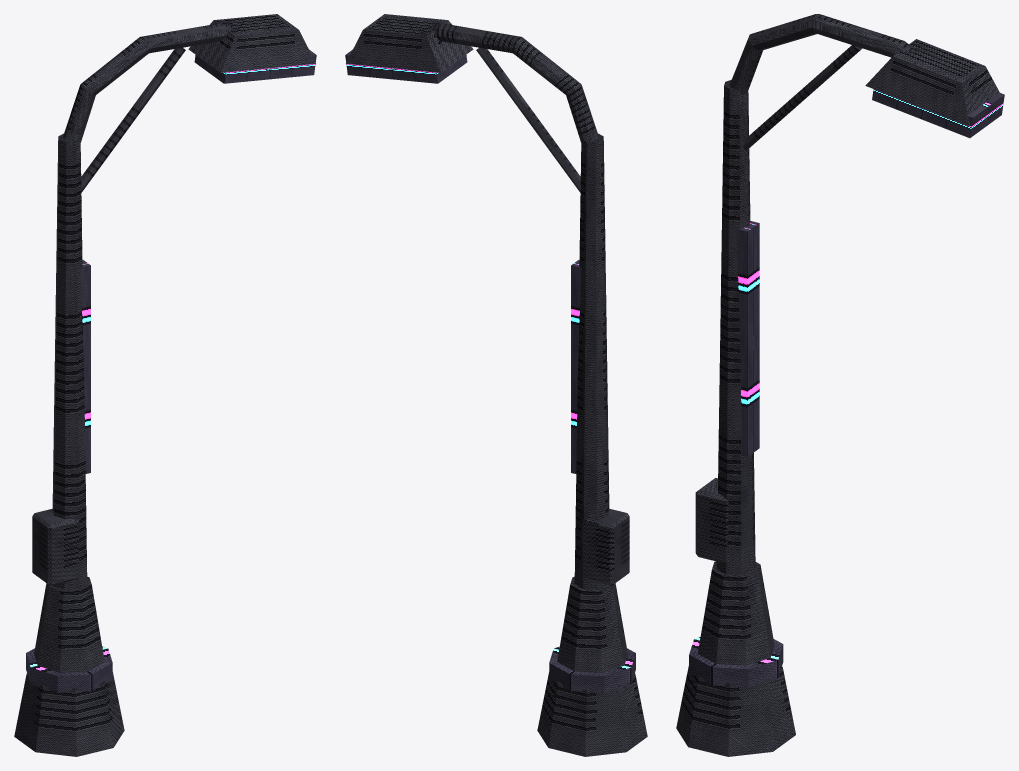
The model's file is street_lamp.glb.
The picture shows the model from 3 angles, left to right: view 1: azimuth 30°, elevation 25°; view 2: azimuth 150°, elevation 25°; view 3: azimuth 330°, elevation 25°; orthographic projection. The views are drawn at different scales.
Visible parts, largest first — view 1: street_lamp__city_roof_mech, street_lamp__city_wall_neon; view 2: street_lamp__city_roof_mech, street_lamp__city_wall_neon; view 3: street_lamp__city_roof_mech, street_lamp__city_wall_neon.
Boxes of the visible parts, x1,y1,x2,y2 form: street_lamp__city_roof_mech: [14, 14, 315, 756]; street_lamp__city_wall_neon: [26, 49, 316, 692]; street_lamp__city_roof_mech: [346, 14, 647, 756]; street_lamp__city_wall_neon: [345, 49, 635, 692]; street_lamp__city_roof_mech: [676, 14, 999, 756]; street_lamp__city_wall_neon: [689, 89, 1004, 687].
Bounding box in the file's own units: 2.07 × 4.84 × 0.6652.
2 materials, 2 textured.
